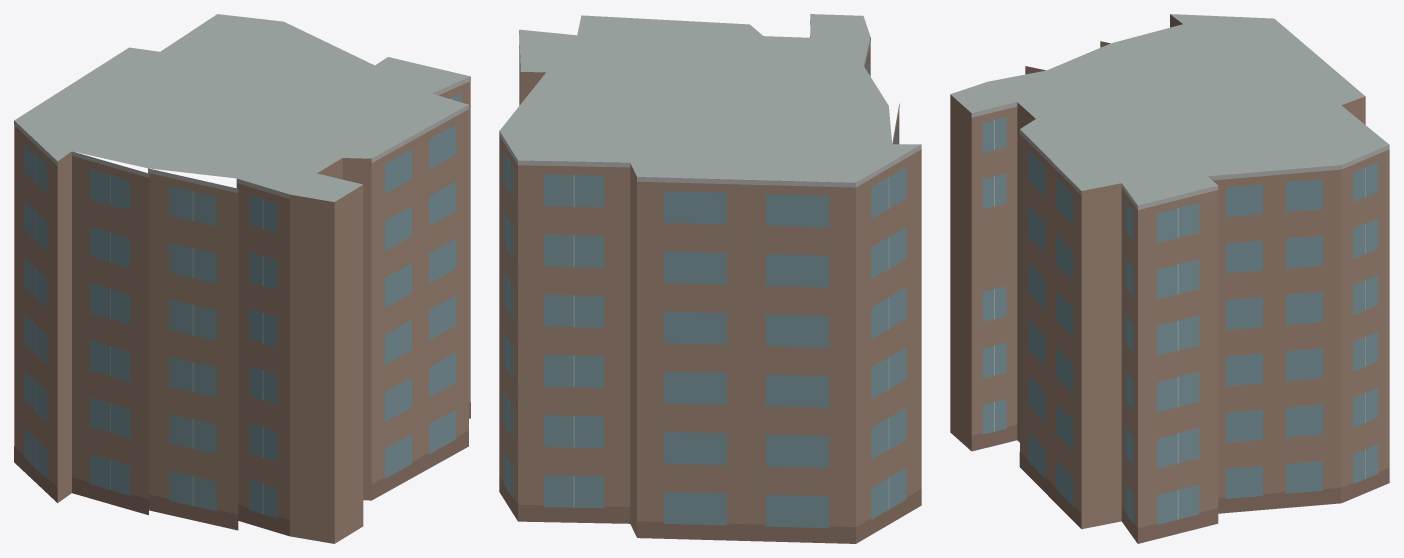
Rendered from survey-upis-32496497.glb.
3 renders of one model, left to right at view 1: azimuth 30°, elevation 25°; view 2: azimuth 150°, elevation 25°; view 3: azimuth 270°, elevation 25°, orthographic. The views are drawn at different scales.
Parts seen in each view (by area): view 1: survey-upis-32496497.tmp; view 2: survey-upis-32496497.tmp; view 3: survey-upis-32496497.tmp.
Part boxes in pixels (<box>): survey-upis-32496497.tmp: <box>14,14,470,543</box>; survey-upis-32496497.tmp: <box>499,14,921,543</box>; survey-upis-32496497.tmp: <box>950,14,1389,543</box>.
Bounding box in the file's own units: 22.37 × 18.4 × 21.67.
